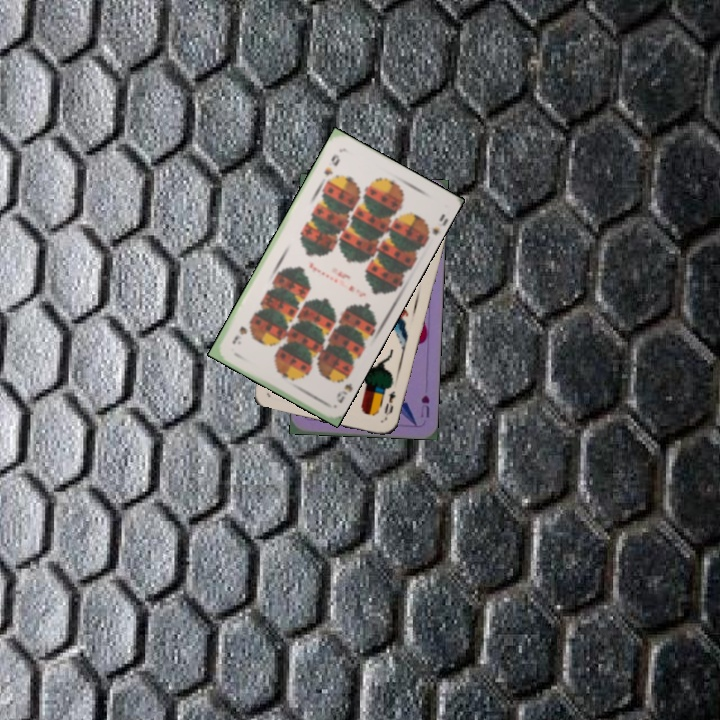EO: (380, 387, 399, 422)
HU: (417, 392, 432, 420)
S9: (333, 369, 355, 406), (320, 150, 343, 178)
